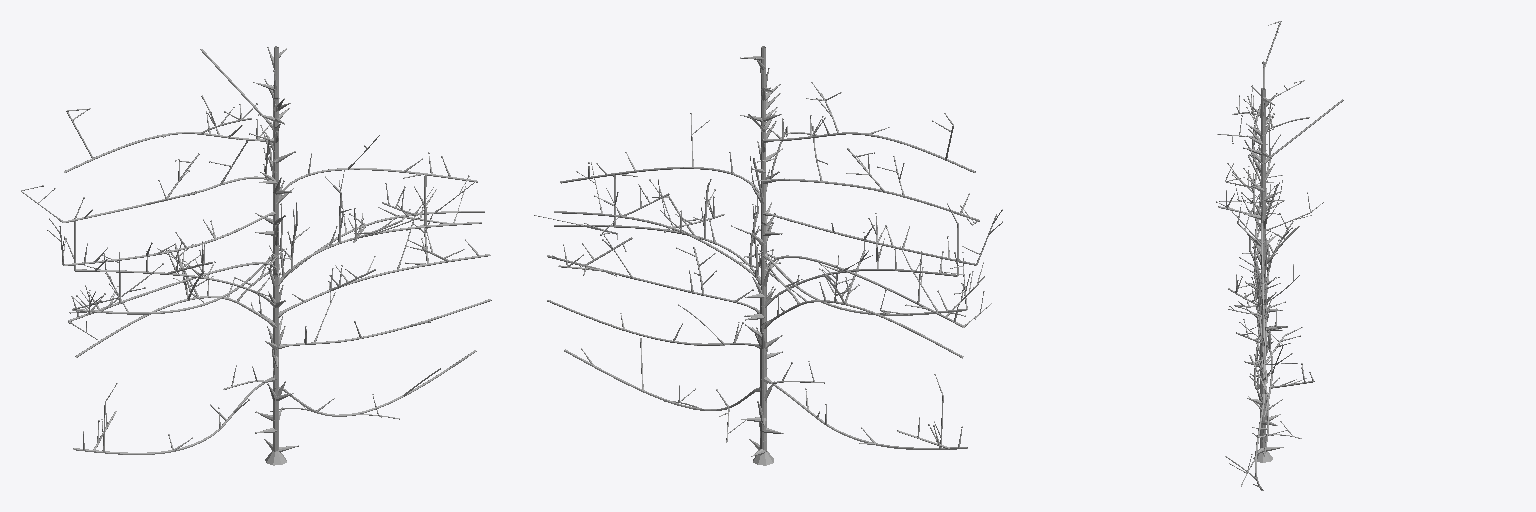
robot.urdf — ur5e:

        <robot name="ur5e" xmlns:xacro="http://ros.org/wiki/xacro">
            <link name="tree">
                <visual>
                    <geometry>
                        <mesh filename="meshes_and_urdf\meshes\trees\envy\train\tree_2.obj" scale="1 1 1"/>
                    </geometry>
                    <material name="LightGrey">
                        <color rgba="0.7 0.7 0.7 1.0"/>
                    </material>
                </visual>
                <collision concave="true">
                    <geometry>
                        <mesh filename="meshes_and_urdf\meshes\trees\envy\train\tree_2.obj" scale="1 1 1"/>
                    </geometry>
                </collision>
                <inertial>
                    <mass value="4.0"/>
                    <origin rpy="0 0 0" xyz="0.0 0.0 0.0"/>
                    <inertia ixx="0.00443333156" ixy="0.0" ixz="0.0" iyy="0.00443333156" iyz="0.0" izz="0.0072"/>
                </inertial>
            </link>
            <link name="world"/>
            <joint name="tree_joint" type="fixed">
                <parent link="world"/>
                <child link="tree"/>
                <origin rpy="0.0 0.0 0.0" xyz="0.0 0.0 0.0"/>
            </joint>
        </robot>
        

--- Facts derived from the render (not from the file) ---
3 views of the same robot in one strip: view 1: azimuth 30°, elevation 25°; view 2: azimuth 150°, elevation 25°; view 3: azimuth 270°, elevation 25° (orthographic).
Model ur5e with 2 links and 1 joints (1 fixed), rooted at world, posed all joints at 0.
Links seen in each view (by area): view 1: tree; view 2: tree; view 3: tree.
Boxes of the visible links, x1=… form: tree: x1=21, y1=46, x2=491, y2=465; tree: x1=534, y1=46, x2=1002, y2=465; tree: x1=1216, y1=21, x2=1343, y2=490.
Bounding box of the posed robot: 4.55 × 1.25 × 4 m (x, y, z).
Meshes: 1 distinct files referenced, 1 mesh visuals loaded (1 OBJ).
